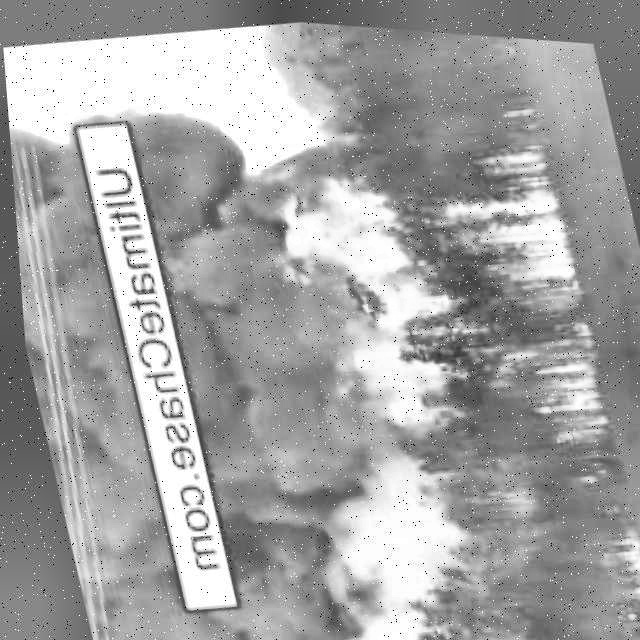Fire: (267, 127, 612, 470), (598, 513, 640, 614)
Smoke: (130, 85, 449, 640), (7, 123, 184, 640)
